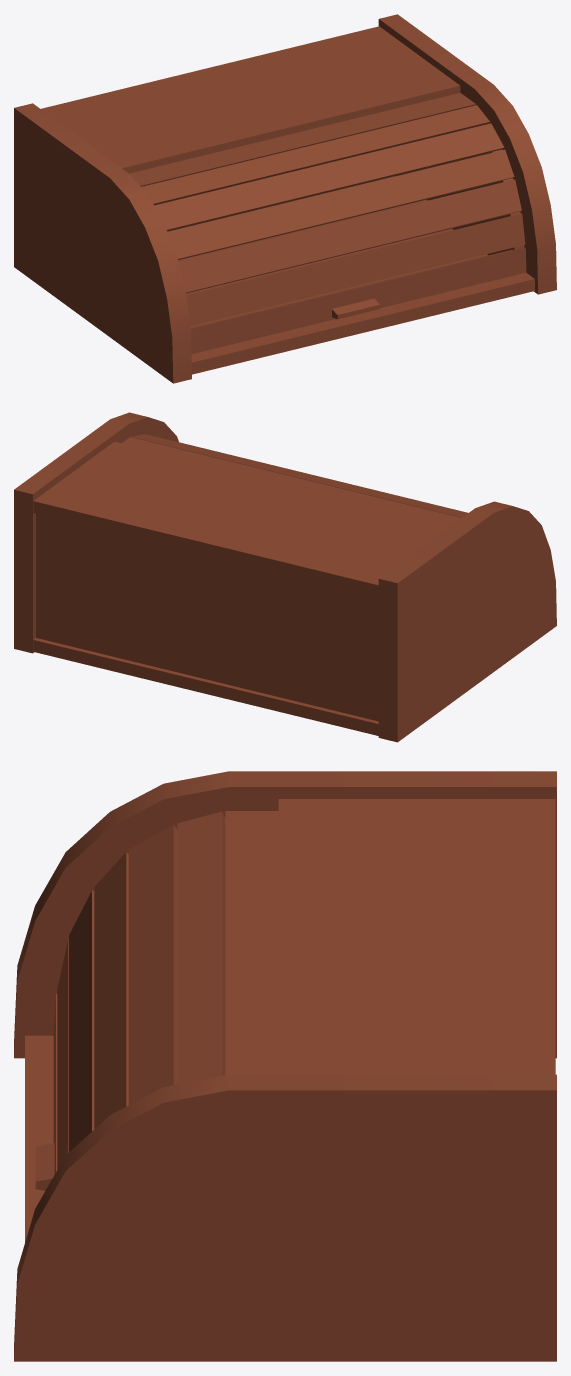
Rendered from BreadBox_01.fbx.
The picture shows the model from 3 angles, top to bottom: view 1: azimuth 30°, elevation 25°; view 2: azimuth 150°, elevation 25°; view 3: azimuth 270°, elevation 25°; orthographic projection. The views are drawn at different scales.
Visible parts, largest first — view 1: BreadBox_01, BreadBox_01_Lid; view 2: BreadBox_01, BreadBox_01_Lid; view 3: BreadBox_01, BreadBox_01_Lid.
Part boxes in pixels (left/top/right/bottom): BreadBox_01: left=14, top=14, right=556, bottom=383; BreadBox_01_Lid: left=129, top=93, right=526, bottom=353; BreadBox_01: left=14, top=412, right=556, bottom=742; BreadBox_01_Lid: left=122, top=434, right=467, bottom=523; BreadBox_01: left=14, top=771, right=556, bottom=1361; BreadBox_01_Lid: left=35, top=811, right=278, bottom=1190.
Size of the model in its own units: 0.4016 by 0.1592 by 0.2888.
